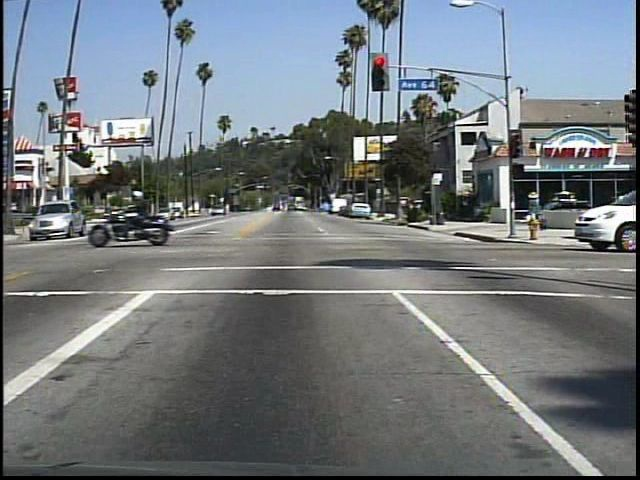person: (130, 186, 168, 246), (522, 186, 548, 217)
